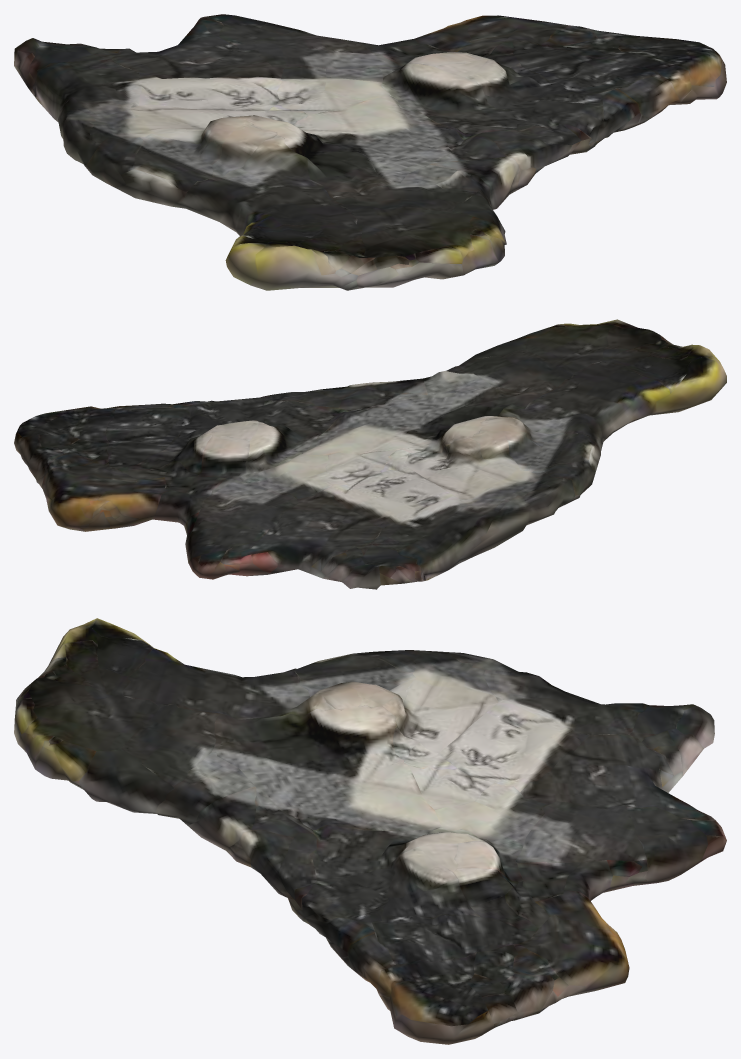
The model's file is hall.glb.
3 views of the same model, one above another, from view 1: azimuth 30°, elevation 25°; view 2: azimuth 150°, elevation 25°; view 3: azimuth 270°, elevation 25° (orthographic). The views are drawn at different scales.
Bounding box in the file's own units: 0.7606 × 0.1424 × 0.725.
Materials: 1 (1 with a texture image).
